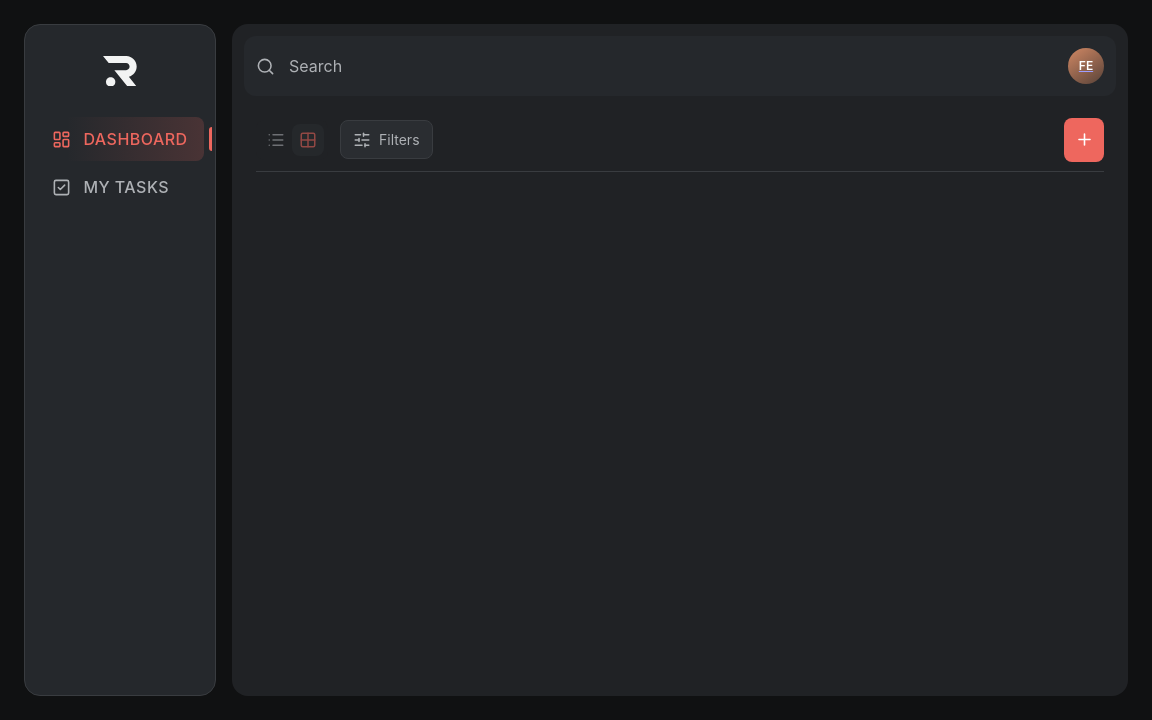
Test: AppLayout task creation › names the missing fields instead of sending an incomplete draft
Click the button named "Add task".
click(1084, 140)  # box top-left (1064, 118), bottom-right (1104, 162)
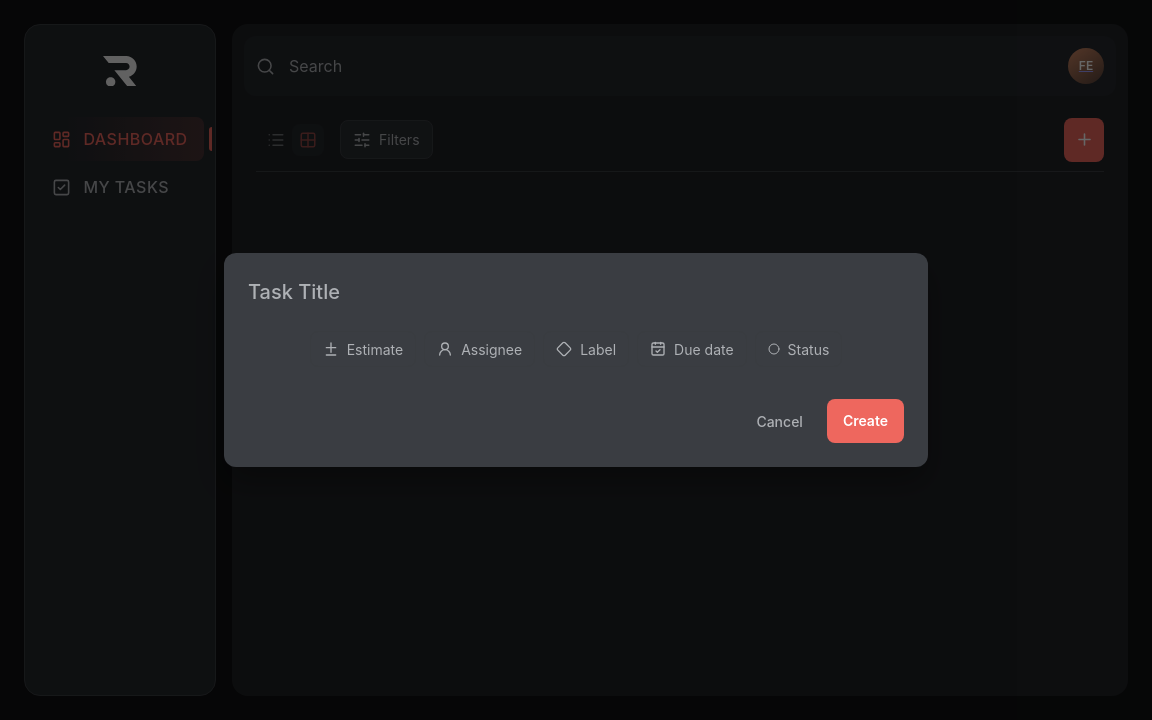
Click the button "Create".
click(865, 421)  # box top-left (827, 399), bottom-right (904, 443)
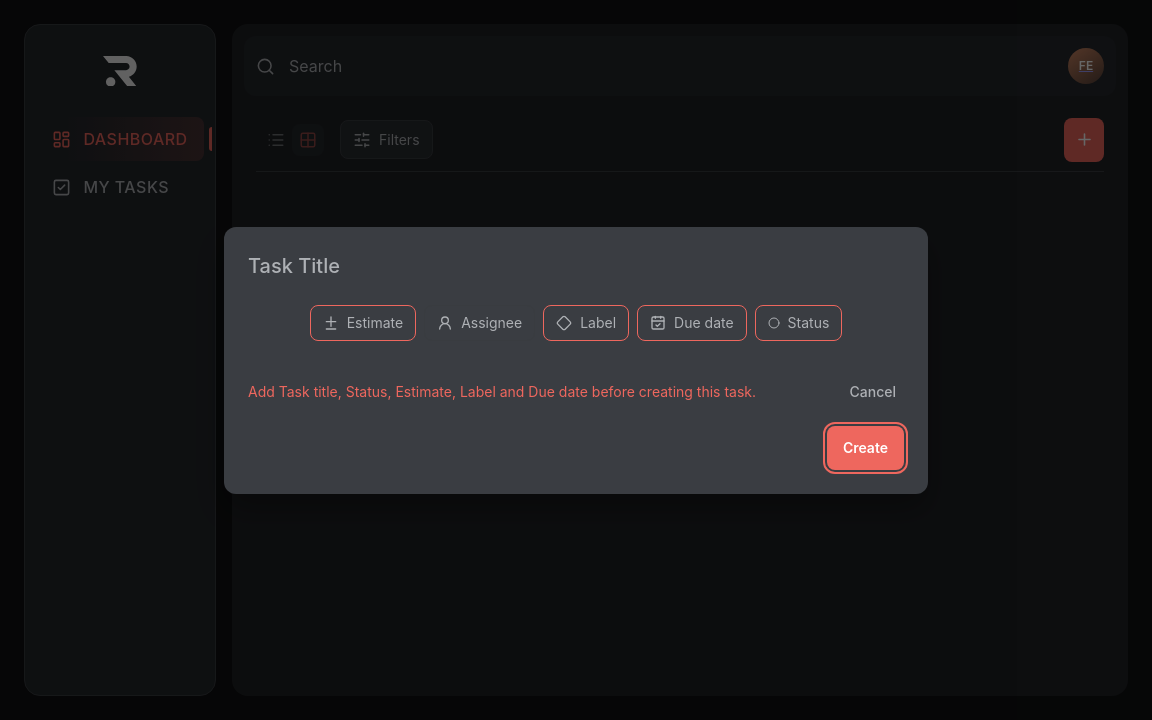
Now the dialog is shown, box top-left (224, 226), bottom-right (928, 494)
Now the message reads "Add Task title, Status, Estimate, Label and Due date before creating this task.", box top-left (248, 382), bottom-right (756, 400)
